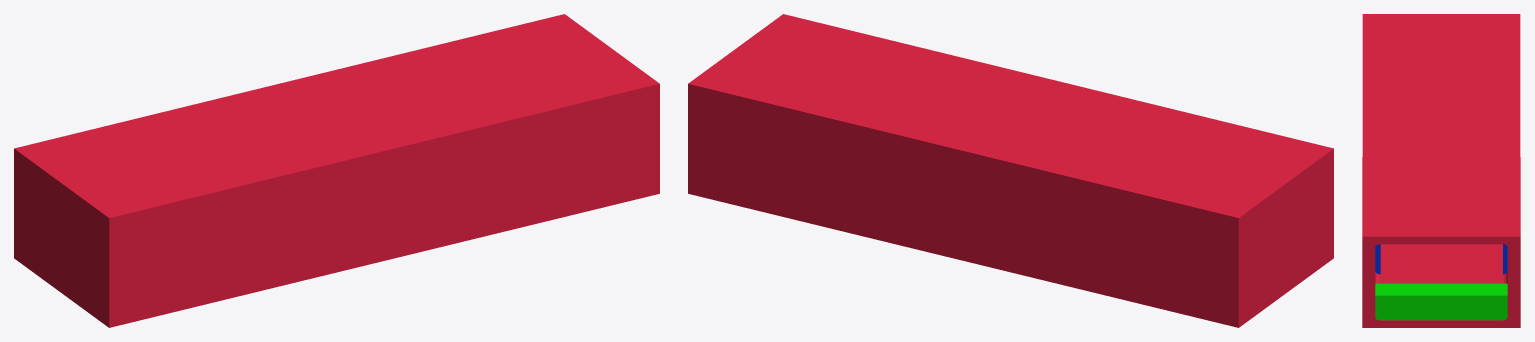
3 views of the same model, side by side, from view 1: azimuth 30°, elevation 25°; view 2: azimuth 150°, elevation 25°; view 3: azimuth 270°, elevation 25° (orthographic). The views are drawn at different scales.
Visible parts, largest first — view 1: Cube.001; view 2: Cube.001; view 3: Cube.001, Cube.002, Cube.005.
Part boxes in pixels (x1,y1,x2,y2): Cube.001: (14,14,659,327); Cube.001: (688,14,1333,327); Cube.001: (1362,14,1520,327); Cube.002: (1375,283,1507,320); Cube.005: (1375,244,1507,274).
Bounding box in the file's own units: 2908 × 555 × 872.
